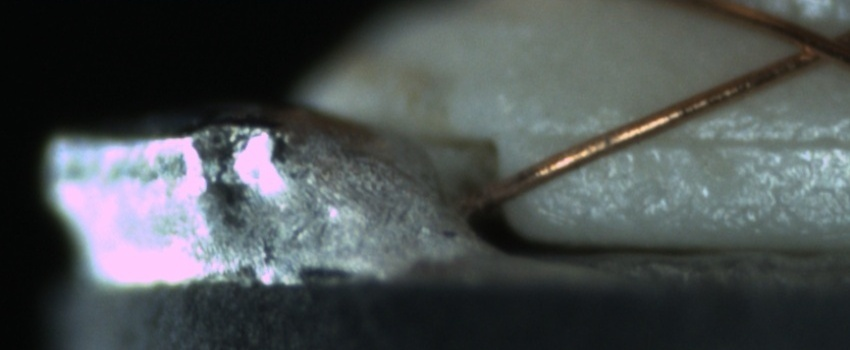CL: (774, 17, 847, 74)
DL: (541, 108, 843, 170)
